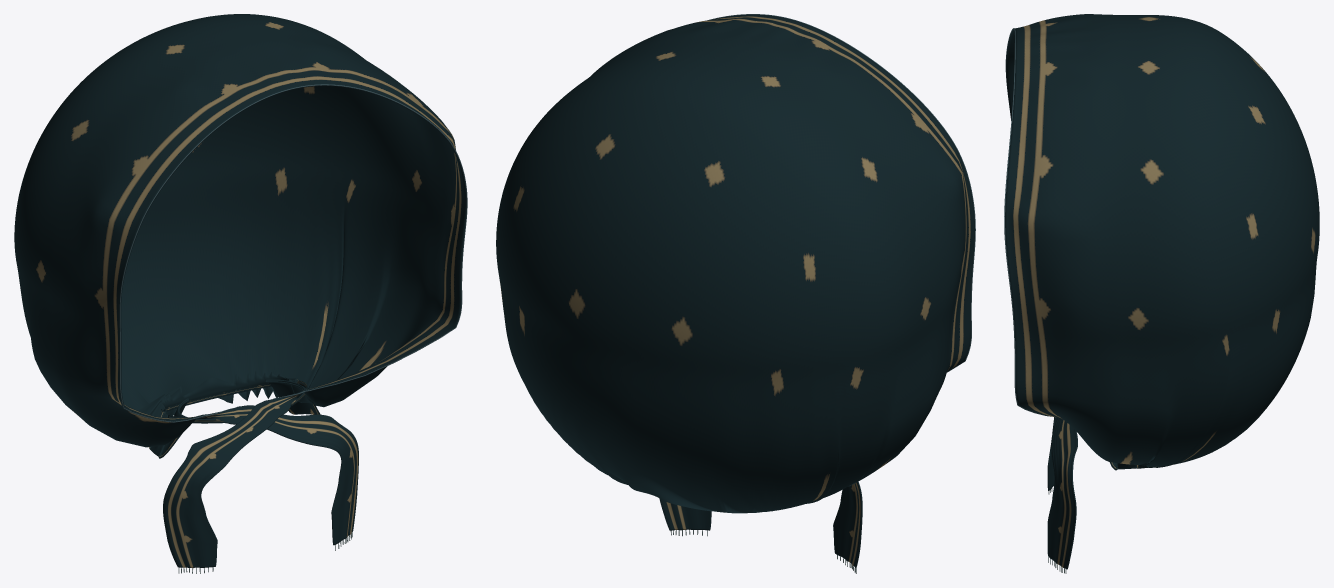
Rendered from Masculine-locs-buttonup-pashmina250-headgear.glb.
The picture shows the model from 3 angles, left to right: view 1: azimuth 30°, elevation 25°; view 2: azimuth 150°, elevation 25°; view 3: azimuth 270°, elevation 25°; orthographic projection. The views are drawn at different scales.
Parts seen in each view (by area): view 1: 226 headgear / Headwear / continuous woven pashmina239, 226 headgear / Headwear / face edge239; view 2: 226 headgear / Headwear / continuous woven pashmina239, 226 headgear / Headwear / face edge239; view 3: 226 headgear / Headwear / continuous woven pashmina239, 226 headgear / Headwear / face edge239.
Boxes of the visible parts, x1,y1,x2,y2 form: 226 headgear / Headwear / continuous woven pashmina239: (14, 14, 466, 567); 226 headgear / Headwear / face edge239: (119, 84, 467, 422); 226 headgear / Headwear / continuous woven pashmina239: (496, 14, 974, 567); 226 headgear / Headwear / face edge239: (707, 14, 975, 372); 226 headgear / Headwear / continuous woven pashmina239: (1005, 14, 1319, 569); 226 headgear / Headwear / face edge239: (1004, 28, 1050, 416).
Bounding box in the file's own units: 1.1 × 1.39 × 0.7988.
3 materials, 1 textured.
